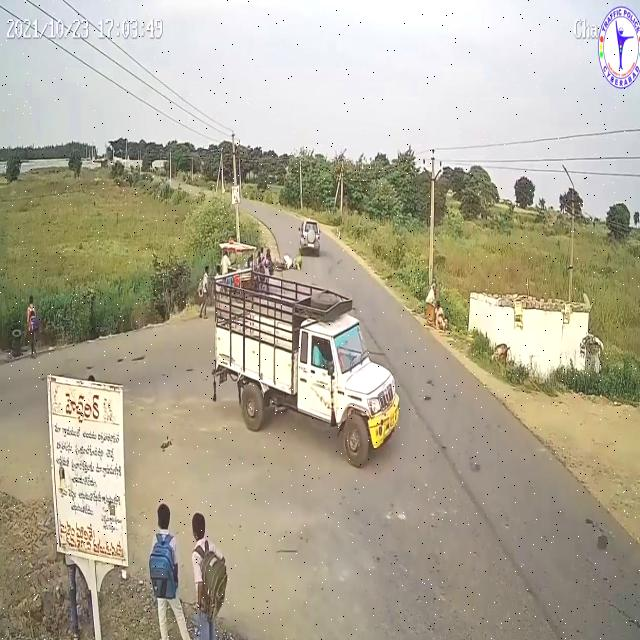accident: (270, 216, 325, 278)
